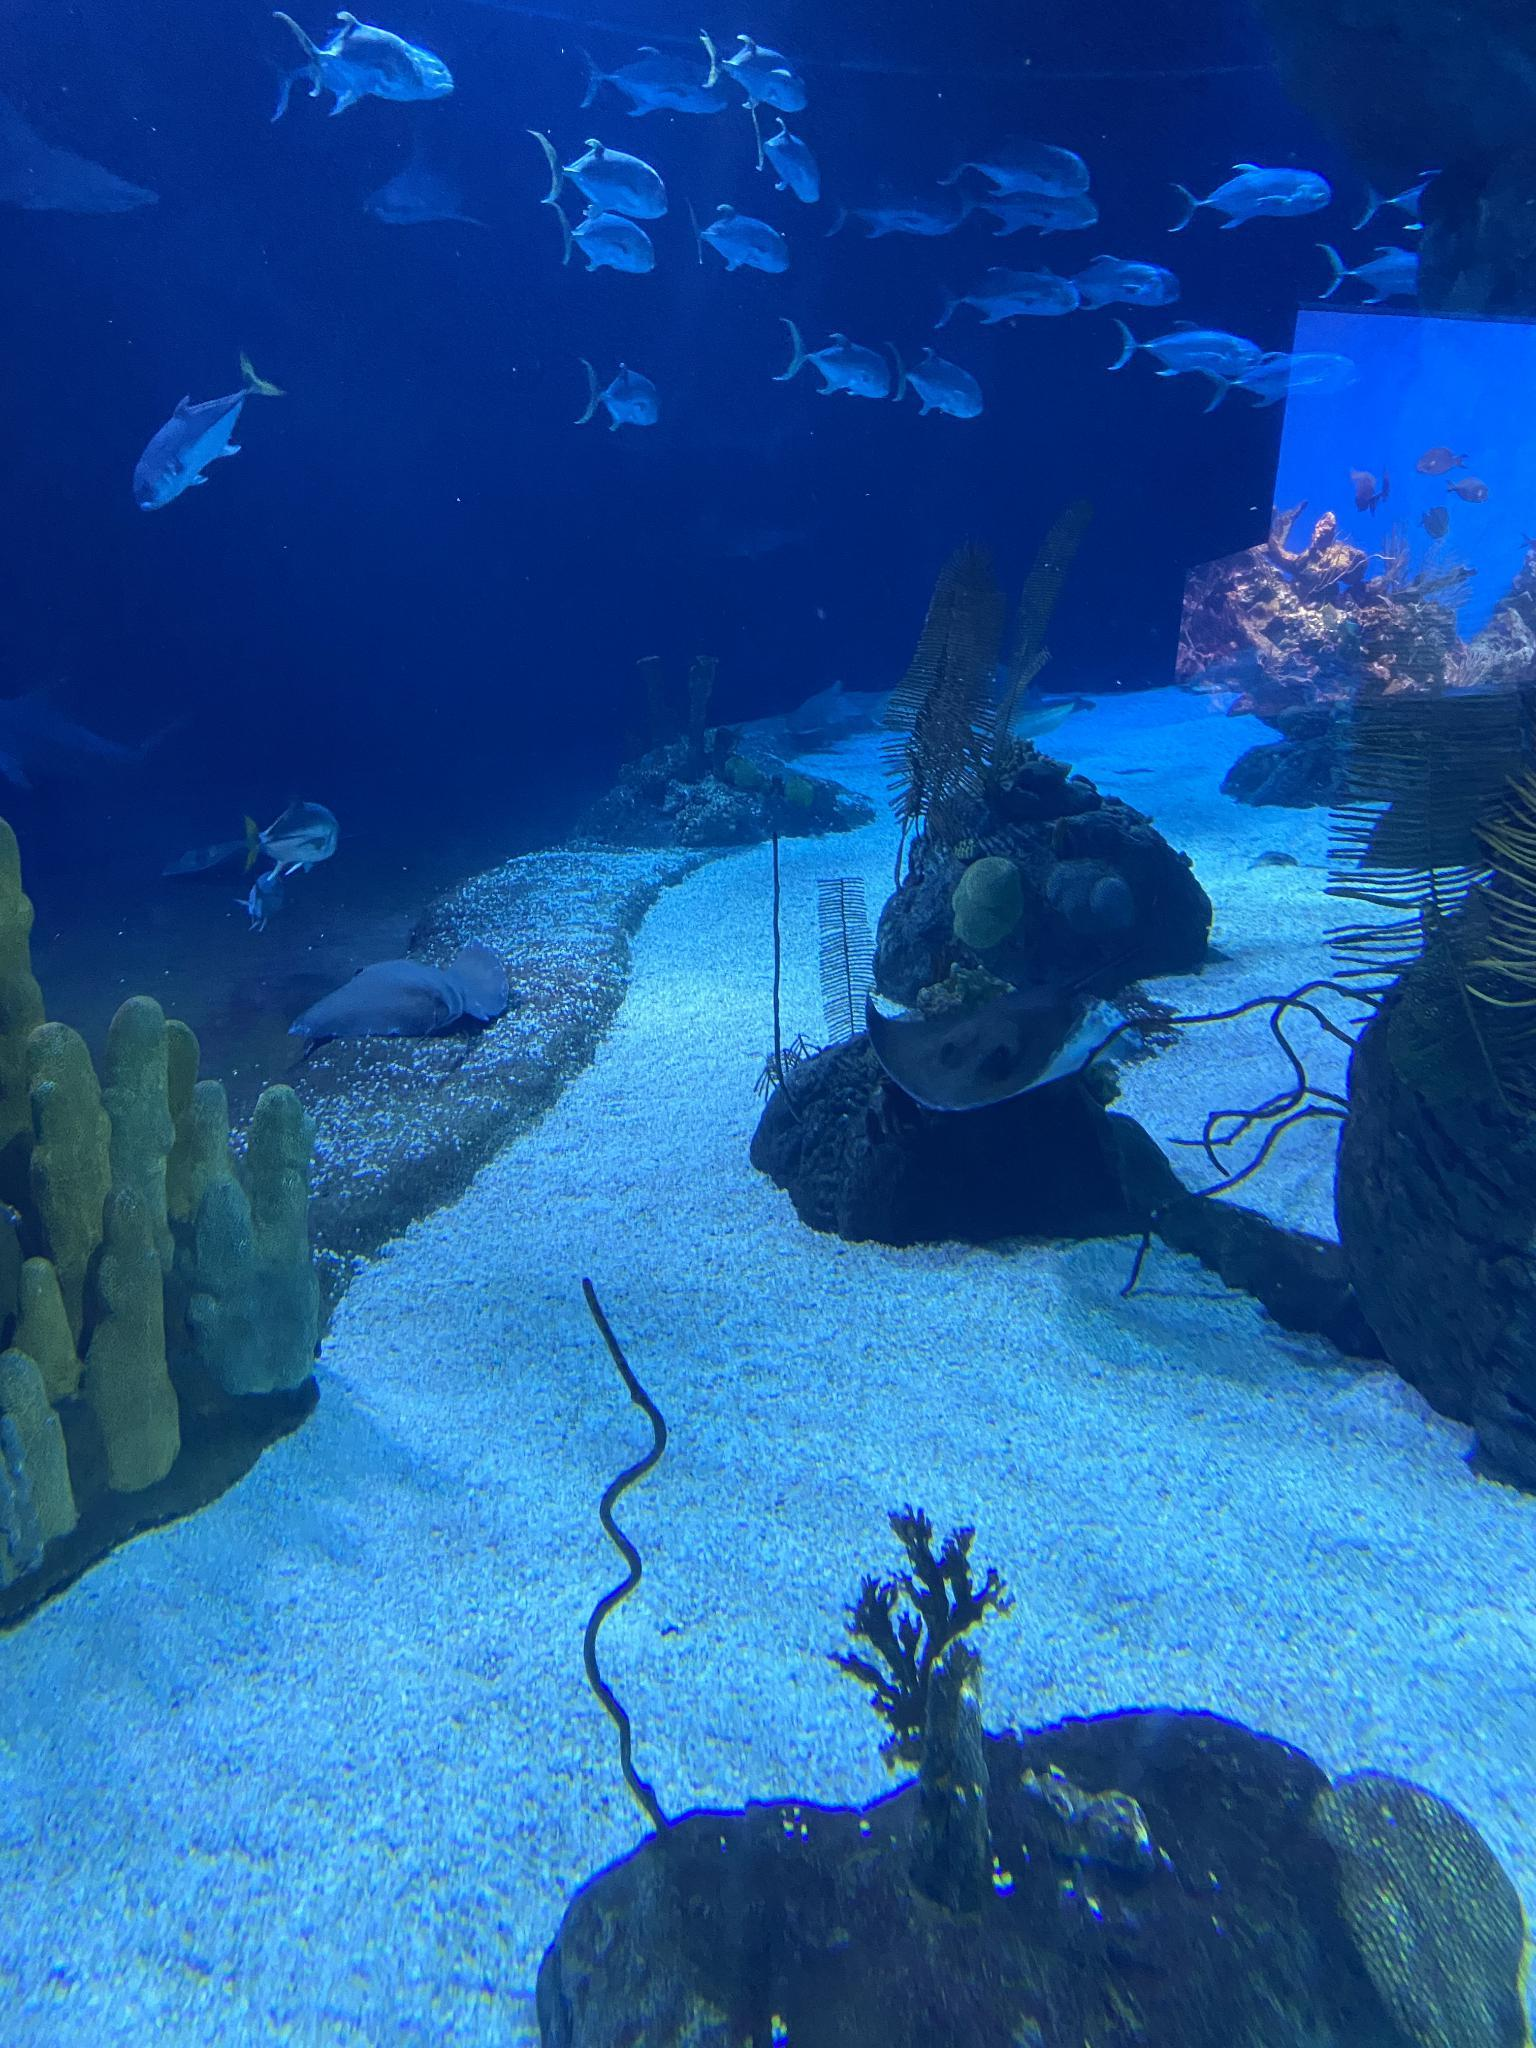fish: (131, 350, 282, 514), (242, 11, 453, 119), (528, 129, 668, 219), (274, 13, 424, 97), (1167, 164, 1333, 232), (576, 48, 729, 118), (939, 132, 1091, 200), (1197, 350, 1357, 413), (770, 316, 891, 398), (936, 261, 1078, 327), (248, 777, 342, 877), (1104, 318, 1263, 376), (824, 177, 960, 240), (545, 198, 657, 274), (684, 195, 791, 274), (884, 339, 984, 418), (747, 102, 820, 205), (949, 187, 1099, 235), (703, 48, 810, 114), (578, 355, 665, 434), (1073, 253, 1181, 313), (1320, 244, 1420, 305), (1354, 168, 1442, 232), (787, 679, 887, 735), (234, 871, 294, 934)
shark: (0, 664, 187, 806), (2, 90, 160, 218), (353, 106, 492, 232)
stingray: (863, 984, 1142, 1113), (287, 942, 508, 1039)
